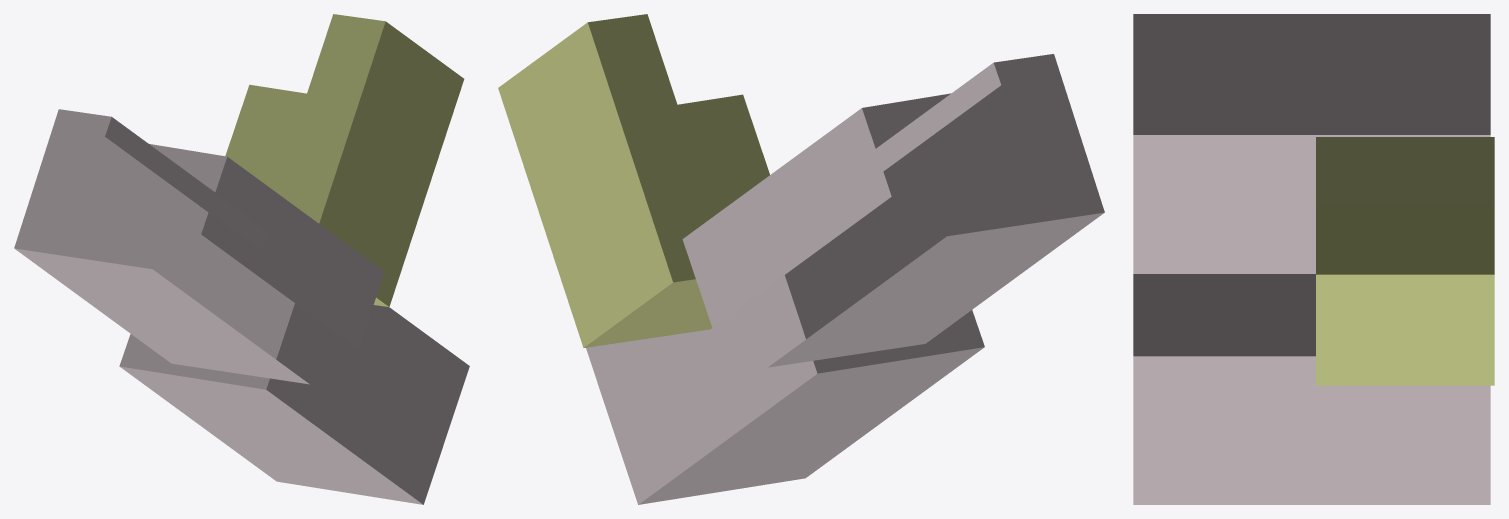
The picture shows the model from 3 angles, left to right: view 1: azimuth 30°, elevation 25°; view 2: azimuth 150°, elevation 25°; view 3: azimuth 270°, elevation 25°; orthographic projection. The views are drawn at different scales.
Visible parts, largest first — view 1: 0_0_1_3_1_1_3_1_2_2; view 2: 0_0_1_3_1_1_3_1_2_2; view 3: 0_0_1_3_1_1_3_1_2_2.
Part boxes in pixels (bbox=[...]): 0_0_1_3_1_1_3_1_2_2: bbox=[14, 14, 469, 504]; 0_0_1_3_1_1_3_1_2_2: bbox=[498, 14, 1104, 504]; 0_0_1_3_1_1_3_1_2_2: bbox=[1133, 14, 1494, 504].
Bounding box in the file's own units: 24.65 × 22.57 × 18.2.
